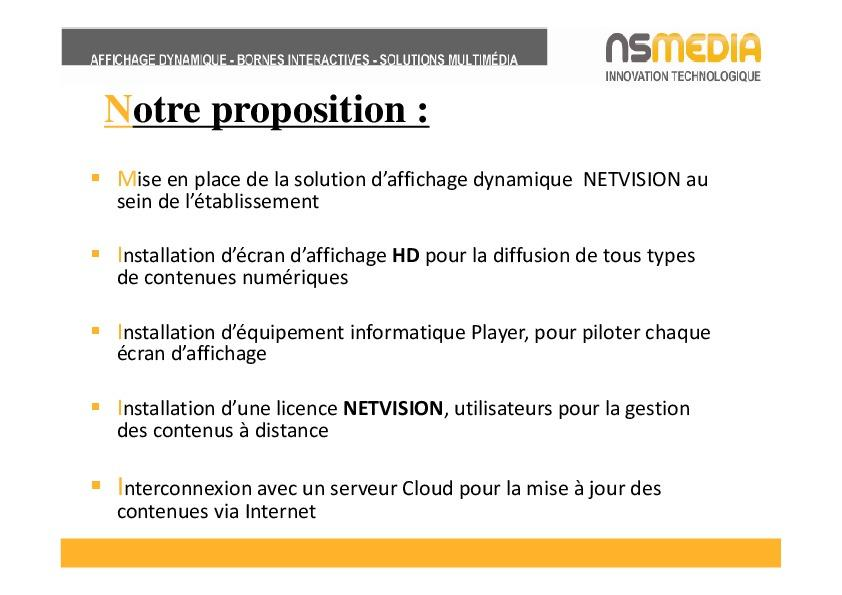paragraph: (59, 153, 752, 528)
subtitle: (77, 28, 779, 95)
title: (90, 86, 453, 141)
